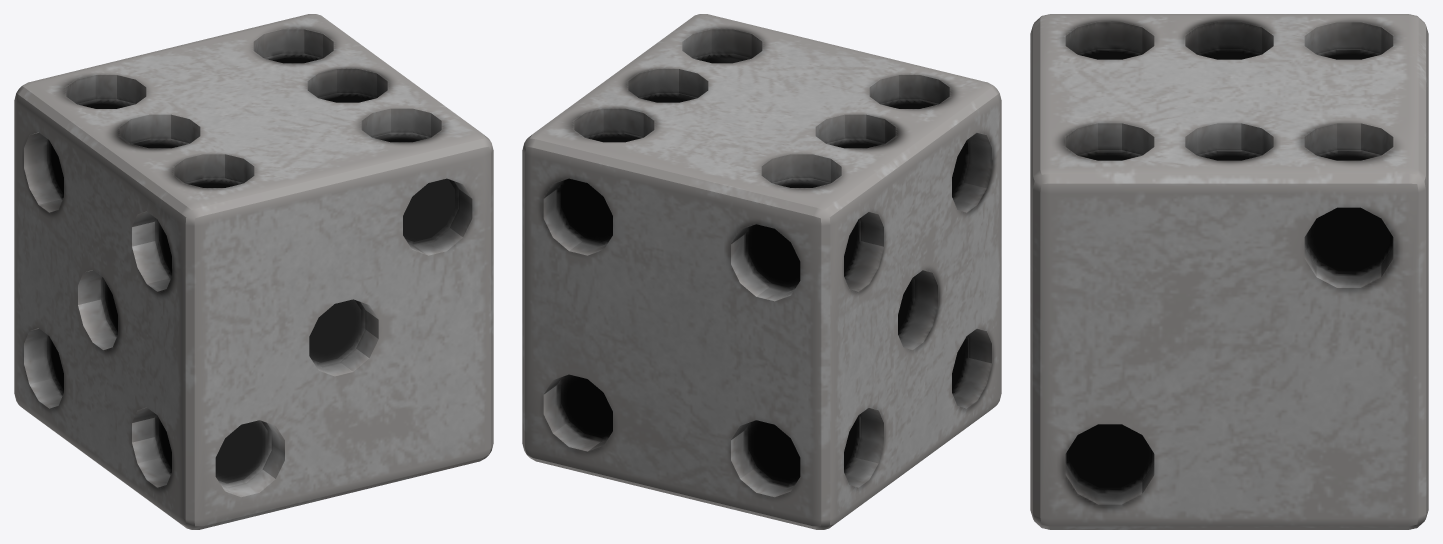
File: さいころ(w_normal).fbx
3 views of the same model, side by side, from view 1: azimuth 30°, elevation 25°; view 2: azimuth 150°, elevation 25°; view 3: azimuth 270°, elevation 25° (orthographic). The views are drawn at different scales.
Parts seen in each view (by area): view 1: polySurface5; view 2: polySurface5; view 3: polySurface5.
Part boxes in pixels (x1,y1,x2,y2): polySurface5: (14,14,493,529); polySurface5: (522,14,1001,529); polySurface5: (1030,14,1428,529).
Bounding box in the file's own units: 1 × 1 × 1.
1 material, 1 textured.
